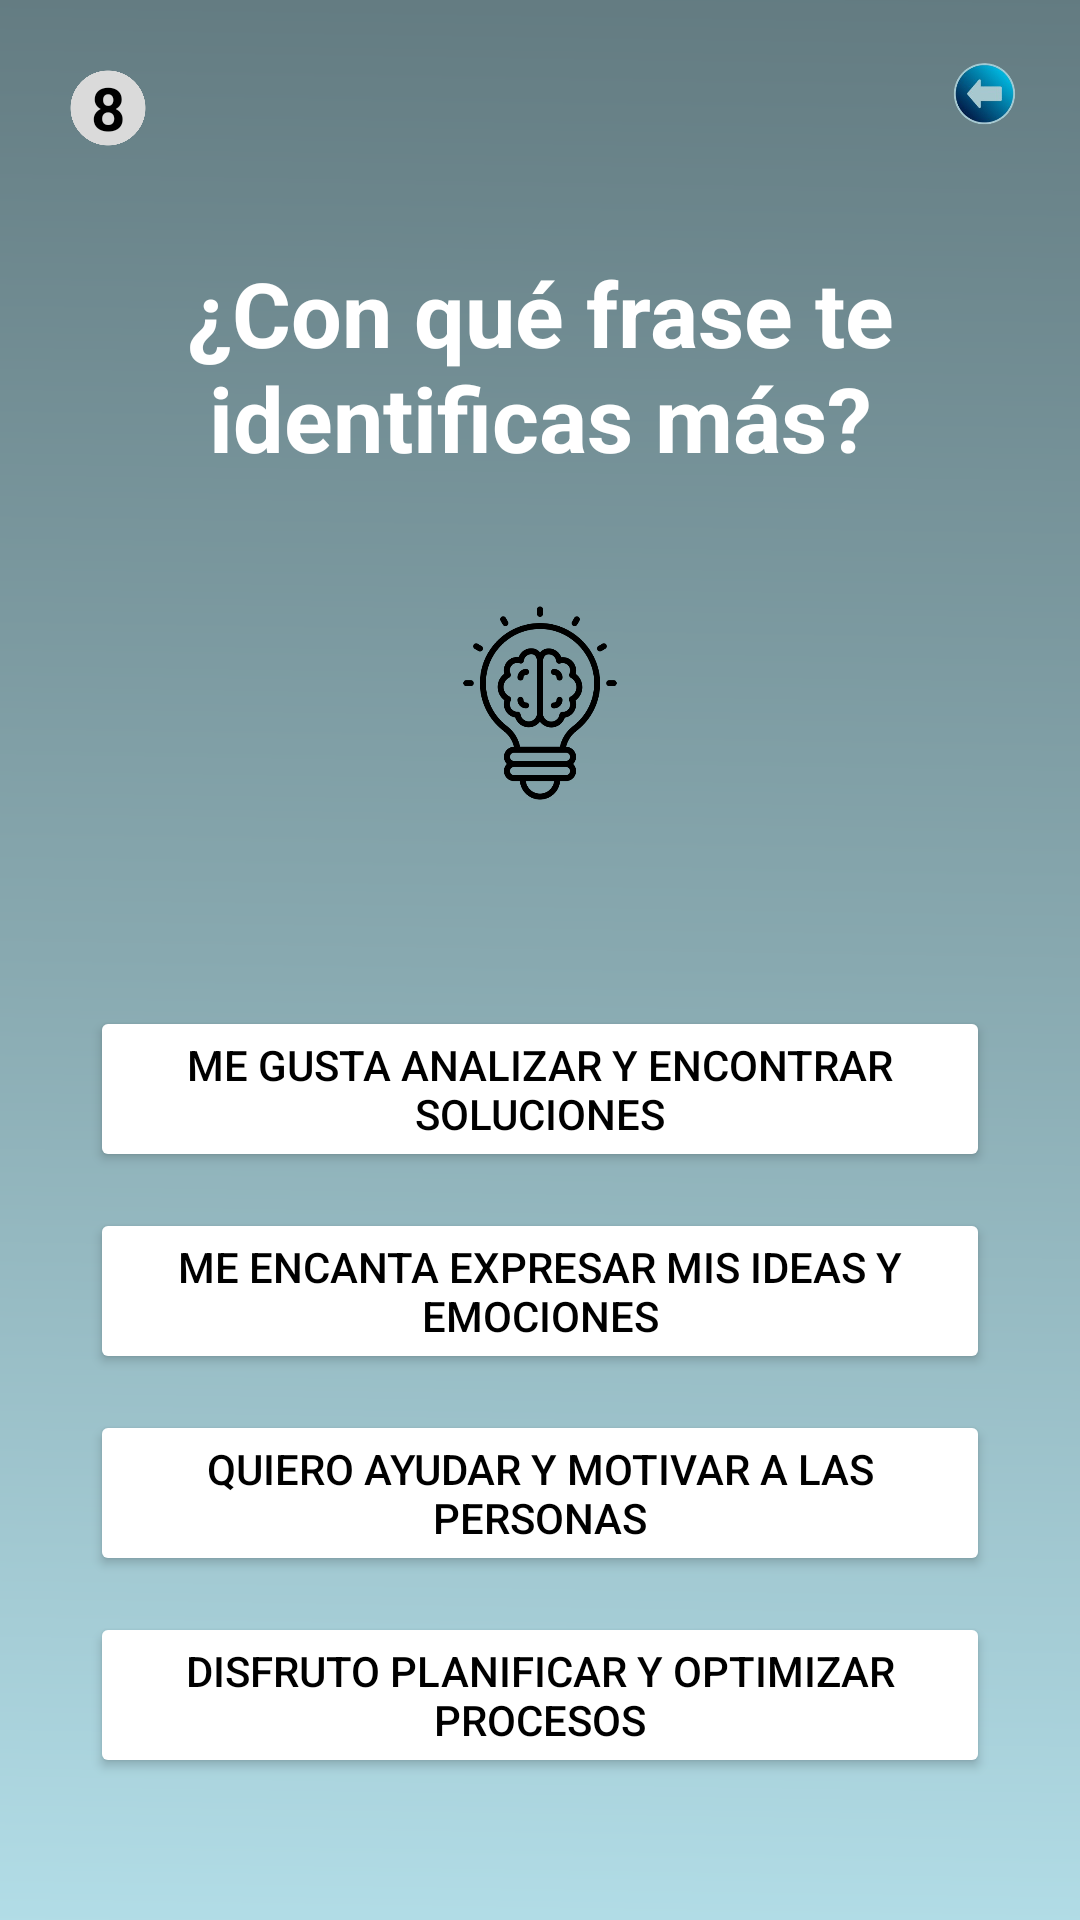

Icons on this 1080w x 1920h Android screen, each with its box as rect(x1, y1, x2, y2):
idea: rect(463, 606, 617, 800)
retroceso: rect(954, 63, 1015, 124)
